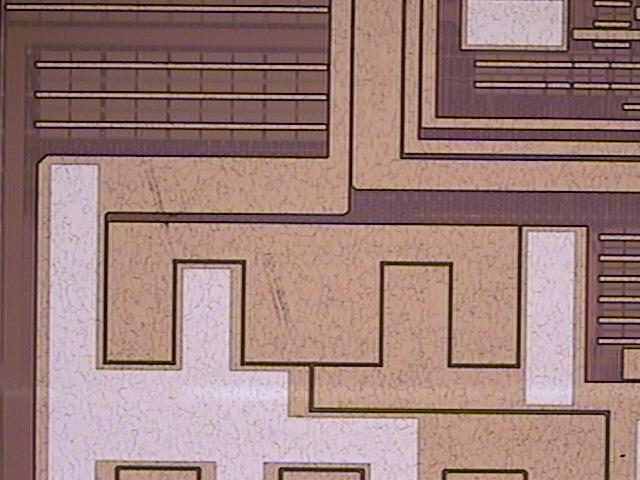SCRATCH: (137, 156, 300, 344)
